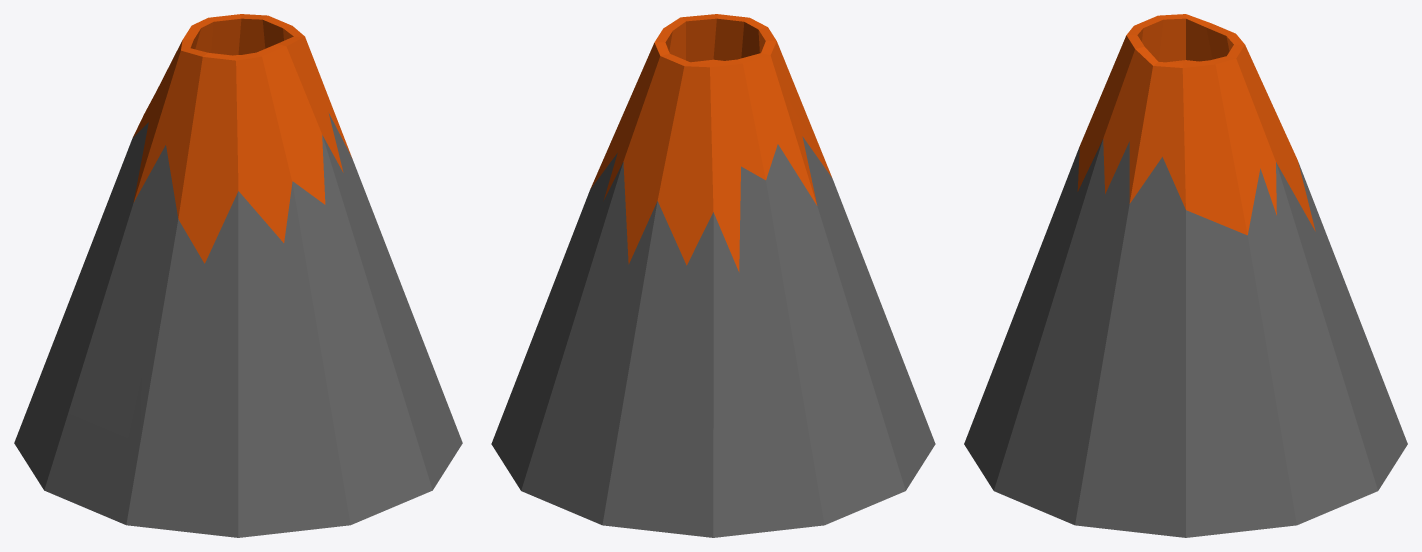
File: volcano02.fbx
3 views of the same model, side by side, from view 1: azimuth 30°, elevation 25°; view 2: azimuth 150°, elevation 25°; view 3: azimuth 270°, elevation 25° (orthographic).
Parts seen in each view (by area): view 1: volcano02; view 2: volcano02; view 3: volcano02.
Part boxes in pixels (x1,y1,x2,y2): volcano02: [14, 14, 462, 537]; volcano02: [491, 14, 935, 537]; volcano02: [964, 14, 1407, 537].
Bounding box in the file's own units: 364 × 367 × 364.
